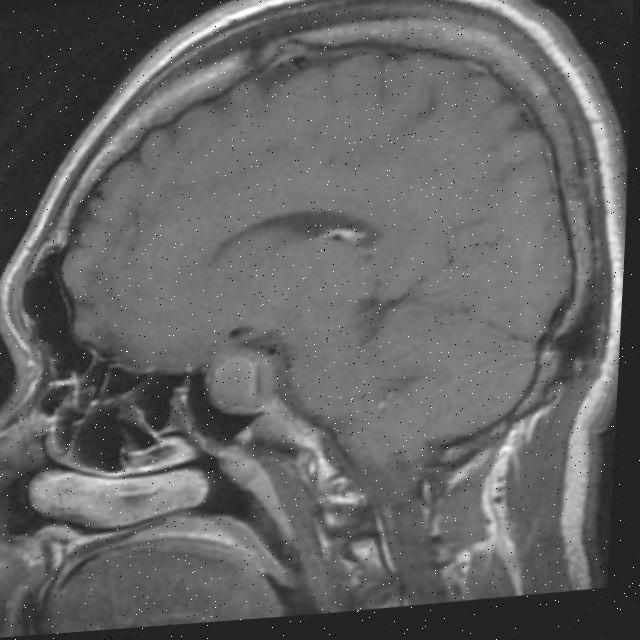Pituitary: (200, 342, 277, 418)
